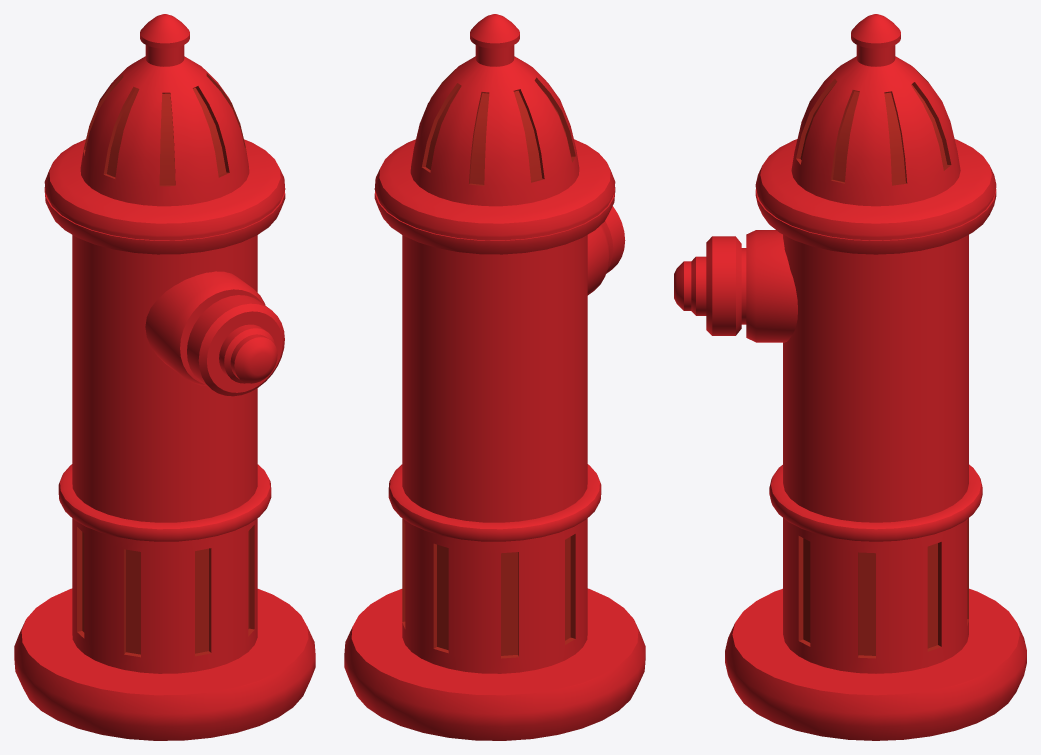
The model's file is fire.fbx.
The picture shows the model from 3 angles, left to right: view 1: azimuth 30°, elevation 25°; view 2: azimuth 150°, elevation 25°; view 3: azimuth 270°, elevation 25°; orthographic projection.
Parts seen in each view (by area): view 1: Red, Circle.001; view 2: Red, Circle.001; view 3: Red, Circle.001.
Boxes of the visible parts, x1,y1,x2,y2 form: Red: [14, 14, 315, 740]; Circle.001: [77, 73, 254, 657]; Red: [344, 14, 645, 740]; Circle.001: [402, 70, 575, 658]; Red: [674, 14, 1026, 740]; Circle.001: [796, 69, 968, 658].
Bounding box in the file's own units: 33.05 × 80.32 × 38.64.
